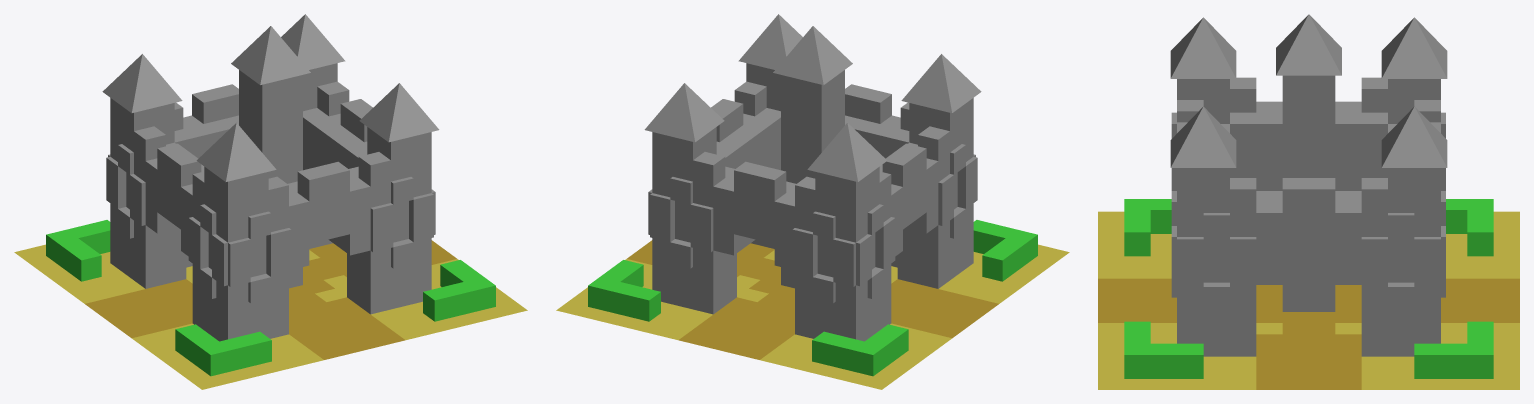
File: MainCastle-1.fbx
3 renders of one model, left to right at view 1: azimuth 30°, elevation 25°; view 2: azimuth 150°, elevation 25°; view 3: azimuth 270°, elevation 25°, orthographic. The views are drawn at different scales.
Visible parts, largest first — view 1: MainCastle; view 2: MainCastle; view 3: MainCastle.
Part boxes in pixels (x1=…): MainCastle: x1=14, y1=14, x2=527, y2=389; MainCastle: x1=556, y1=14, x2=1069, y2=389; MainCastle: x1=1098, y1=14, x2=1519, y2=389.
Size of the model in its own units: 400 by 300 by 400.
